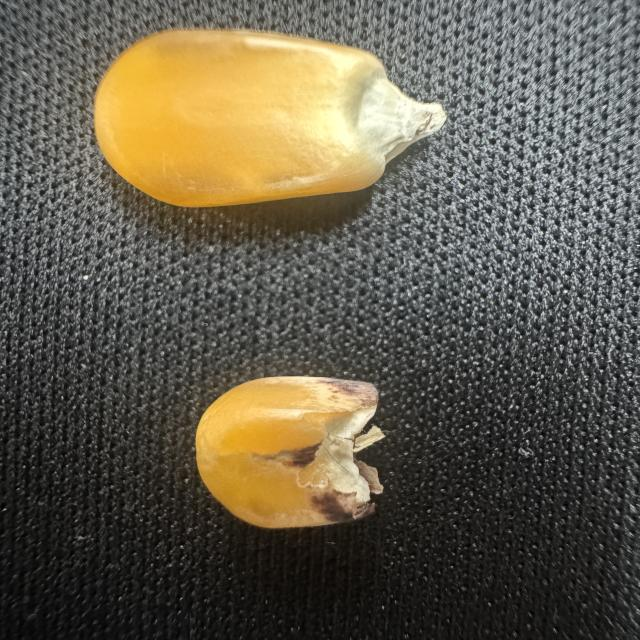Bad-Seed: (174, 367, 406, 546)
Good-Seed: (83, 24, 453, 219)
